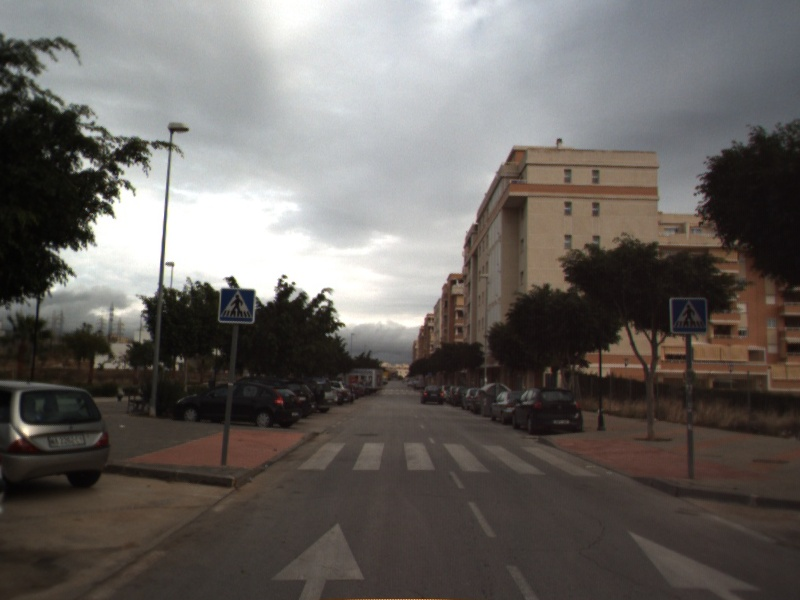STRAIGHT: (625, 528, 765, 600), (268, 521, 368, 600)
